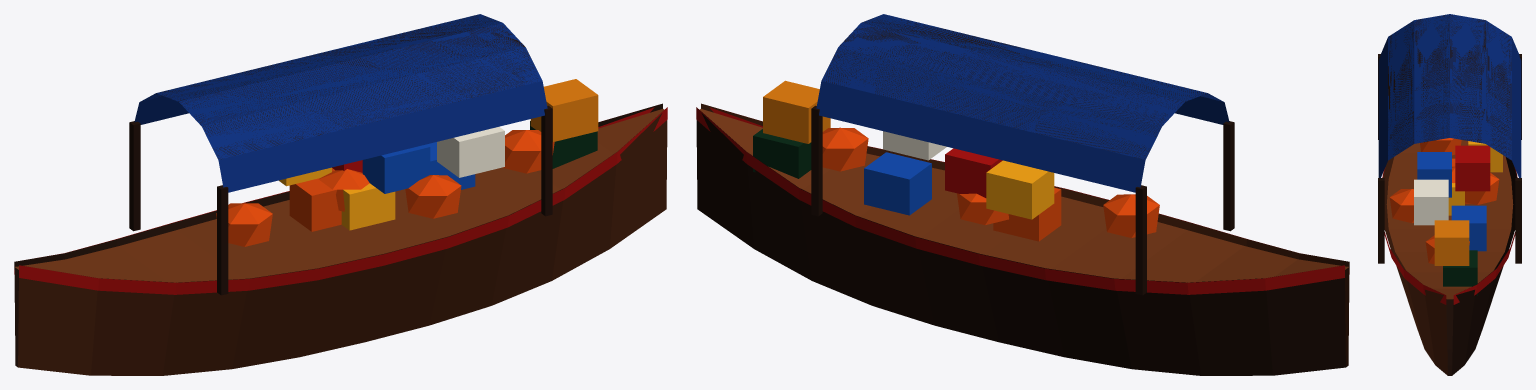
File: PV_RiverBoat1.fbx
3 views of the same model, side by side, from view 1: azimuth 30°, elevation 25°; view 2: azimuth 150°, elevation 25°; view 3: azimuth 270°, elevation 25° (orthographic). The views are drawn at different scales.
Visible parts, largest first — view 1: PV_RiverBoat1_LOD0; view 2: PV_RiverBoat1_LOD0; view 3: PV_RiverBoat1_LOD0.
Part boxes in pixels (left/top/right/bottom): PV_RiverBoat1_LOD0: left=14, top=14, right=667, bottom=375; PV_RiverBoat1_LOD0: left=696, top=14, right=1349, bottom=375; PV_RiverBoat1_LOD0: left=1378, top=14, right=1521, bottom=375.
Size of what is drawn, in the model's own units: 6.4 by 2.47 by 1.57.
